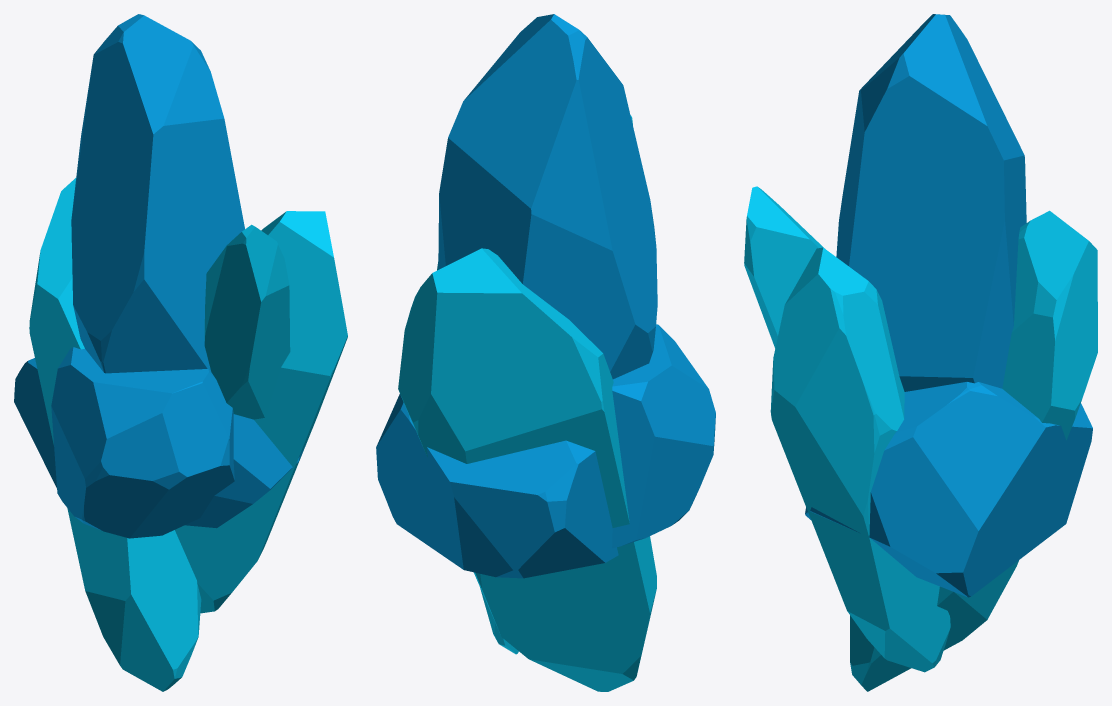
The model's file is iceSpike2.fbx.
The picture shows the model from 3 angles, left to right: view 1: azimuth 30°, elevation 25°; view 2: azimuth 150°, elevation 25°; view 3: azimuth 270°, elevation 25°; orthographic projection. The views are drawn at different scales.
Visible parts, largest first — view 1: Sphere.006, Sphere.009, Sphere.010, Sphere.011, Sphere.008, Sphere.007; view 2: Sphere.010, Sphere.006, Sphere.007, Sphere.009; view 3: Sphere.006, Sphere.011, Sphere.007, Sphere.010, Sphere.008.
Boxes of the visible parts, x1=… form: Sphere.006: x1=71, y1=14, x2=244, y2=373; Sphere.009: x1=51, y1=347, x2=234, y2=538; Sphere.010: x1=29, y1=178, x2=201, y2=691; Sphere.011: x1=175, y1=211, x2=347, y2=613; Sphere.008: x1=204, y1=224, x2=290, y2=419; Sphere.007: x1=14, y1=358, x2=306, y2=528; Sphere.010: x1=398, y1=248, x2=656, y2=691; Sphere.006: x1=438, y1=14, x2=657, y2=379; Sphere.007: x1=376, y1=394, x2=618, y2=578; Sphere.009: x1=612, y1=324, x2=715, y2=548; Sphere.006: x1=836, y1=14, x2=1026, y2=391; Sphere.011: x1=770, y1=247, x2=950, y2=672; Sphere.007: x1=805, y1=382, x2=1092, y2=597; Sphere.010: x1=850, y1=210, x2=1097, y2=691; Sphere.008: x1=744, y1=186, x2=823, y2=348.
Bounding box in the file's own units: 121 × 295 × 139.
